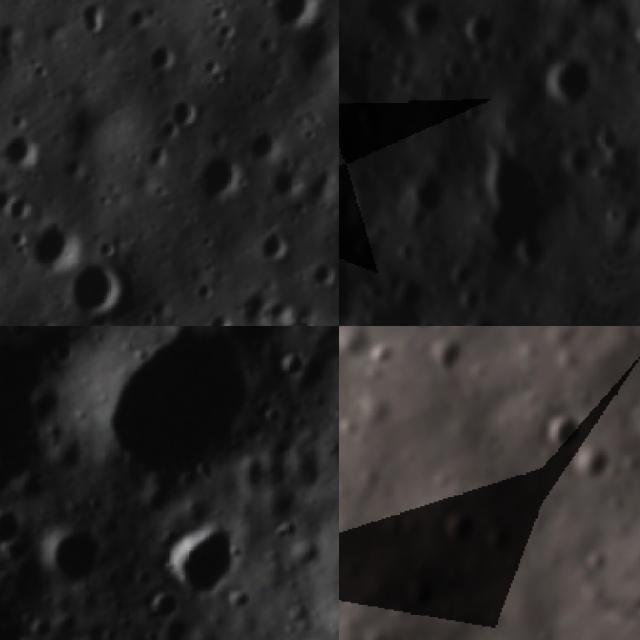crater: (69, 326, 266, 496), (170, 515, 235, 621), (17, 210, 94, 286), (54, 254, 134, 326), (182, 143, 255, 215), (556, 428, 622, 494), (536, 44, 600, 110), (426, 493, 490, 558), (56, 512, 98, 611), (530, 396, 593, 458), (411, 326, 477, 382), (339, 237, 374, 326), (392, 566, 447, 620), (240, 121, 294, 175), (472, 506, 526, 560), (132, 29, 185, 81), (62, 0, 122, 45), (0, 125, 49, 180), (160, 85, 211, 136), (248, 220, 300, 270), (260, 0, 325, 38), (356, 326, 407, 374), (369, 326, 469, 349), (448, 5, 499, 50), (509, 224, 553, 274), (391, 0, 442, 42), (555, 138, 598, 184), (299, 249, 339, 298), (339, 326, 381, 368), (0, 191, 40, 235), (184, 275, 221, 312), (288, 538, 326, 574), (142, 592, 185, 623), (590, 122, 626, 156), (0, 501, 21, 558), (202, 303, 243, 326), (285, 344, 311, 377)
